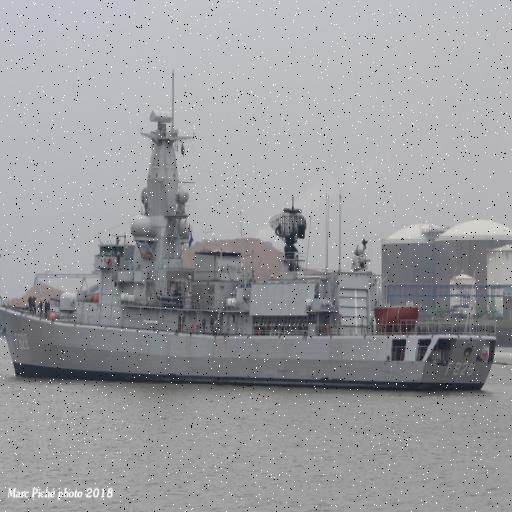Fragata: (1, 58, 499, 396)
